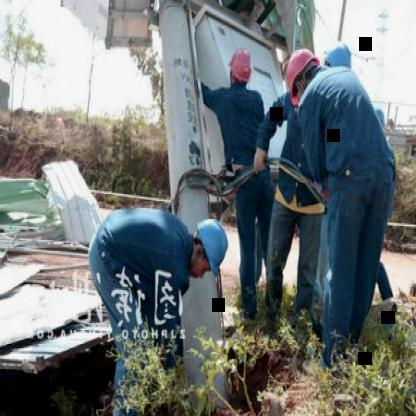helmet: (189, 218, 229, 288), (284, 48, 322, 106), (320, 38, 359, 78), (229, 48, 254, 90)
